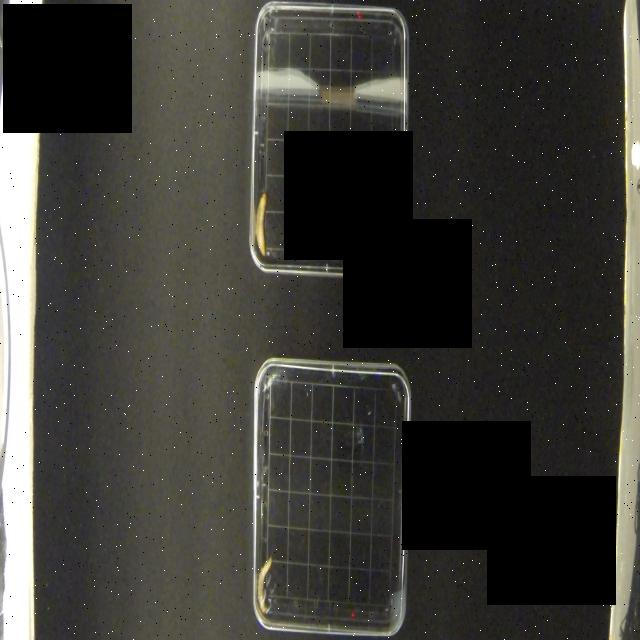larva: (254, 190, 270, 258), (258, 556, 272, 614)
